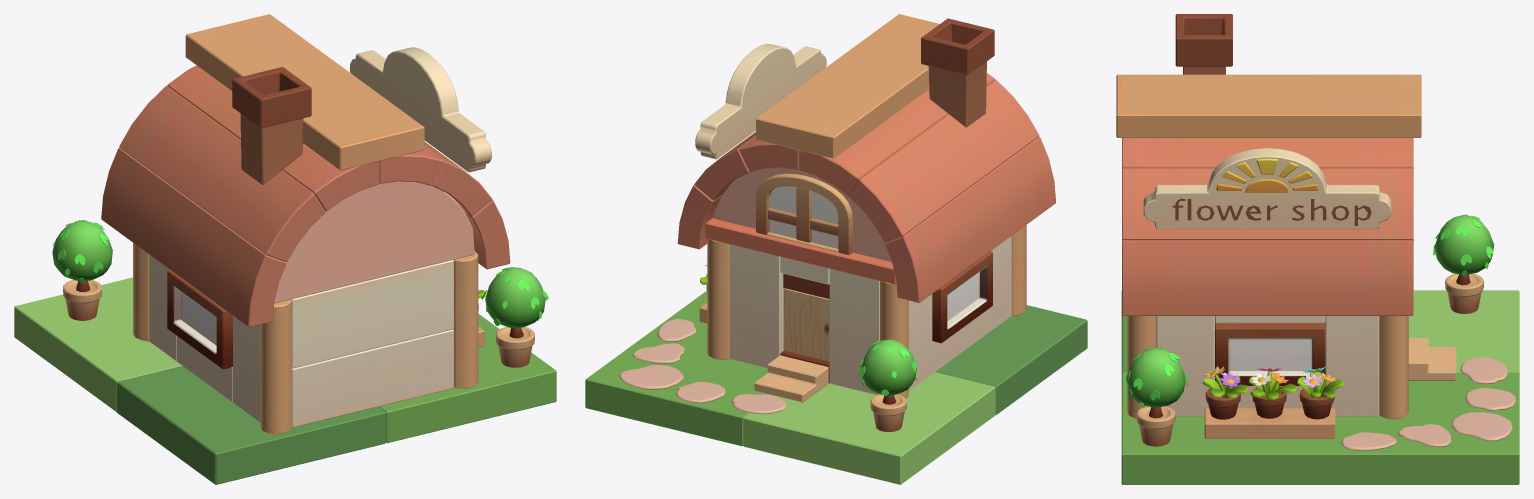
File: level_179.fbx
3 views of the same model, side by side, from view 1: azimuth 30°, elevation 25°; view 2: azimuth 150°, elevation 25°; view 3: azimuth 270°, elevation 25° (orthographic). The views are drawn at different scales.
Parts seen in each view (by area): view 1: Cube_L3_10.001, Cube_L1_11.001, Cube_L1_4.003, Cube_L1_8.001, Cube_L1_12.001, Cube_L2_12, Cube_L3_9.002, Cube_L2_13, Cube_L3_8.002, Cube_L1.003, Cube_L1_10.001, Cube_L1_9.001 (+12 smaller); view 2: Cube_L3_9.002, Cube_L1_4.003, Cube_L1_11.001, Cube_L1_12.001, Cube_L3_8.002, Cube_L3_10.001, Cube_L1.003, Cube_L2_8, Cube_L1_5.003, Cube_L1_10.001, Cube_L2_16, Cube_L1_9.001 (+22 smaller); view 3: Cube_L3_8.002, Cube_L1_1.003, Cube_L1_4.003, Cube_L1.003, Cube_L1_2.003, Cube_L1_3.003, Cube_L3_9.002, Cube_L2.003, Cube_L2_6.002, Cube_L3_1.003, Cube_L3_11.001, Cube_L2_3.002 (+15 smaller).
Boxes of the visible parts, <box> form: Cube_L3_10.001: <box>116,366,385,484</box>; Cube_L1_11.001: <box>119,86,325,261</box>; Cube_L1_4.003: <box>185,14,424,170</box>; Cube_L1_8.001: <box>274,181,474,303</box>; Cube_L1_12.001: <box>101,147,286,327</box>; Cube_L2_12: <box>290,260,453,368</box>; Cube_L3_9.002: <box>14,277,181,411</box>; Cube_L2_13: <box>291,329,453,427</box>; Cube_L3_8.002: <box>378,314,556,443</box>; Cube_L1.003: <box>350,47,491,172</box>; Cube_L1_10.001: <box>232,67,311,184</box>; Cube_L1_9.001: <box>167,65,379,211</box>; Cube_L3_9.002: <box>743,372,995,484</box>; Cube_L1_4.003: <box>756,14,939,158</box>; Cube_L1_11.001: <box>849,79,1039,242</box>; Cube_L1_12.001: <box>885,137,1056,302</box>; Cube_L3_8.002: <box>585,291,773,446</box>; Cube_L3_10.001: <box>936,305,1087,414</box>; Cube_L1.003: <box>695,43,826,159</box>; Cube_L2_8: <box>729,244,783,368</box>; Cube_L1_5.003: <box>756,173,852,255</box>; Cube_L1_10.001: <box>921,18,994,127</box>; Cube_L2_16: <box>829,269,879,394</box>; Cube_L1_9.001: <box>799,73,994,195</box>; Cube_L3_8.002: <box>1121,372,1519,484</box>; Cube_L1_1.003: <box>1122,240,1413,315</box>; Cube_L1_4.003: <box>1116,74,1421,137</box>; Cube_L1.003: <box>1143,148,1391,229</box>; Cube_L1_2.003: <box>1122,168,1413,240</box>; Cube_L1_3.003: <box>1122,138,1413,168</box>; Cube_L3_9.002: <box>1408,290,1519,372</box>; Cube_L2.003: <box>1215,322,1325,385</box>; Cube_L2_6.002: <box>1325,316,1379,416</box>; Cube_L3_1.003: <box>1126,347,1188,446</box>; Cube_L3_11.001: <box>1433,214,1494,313</box>; Cube_L2_3.002: <box>1156,316,1214,416</box>.
Bounding box in the file's own units: 19.78 × 19.03 × 20.29.
